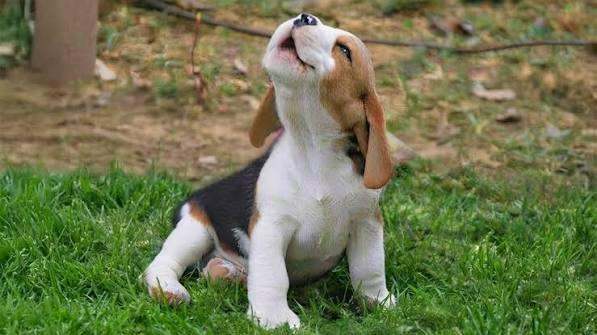puppy-dog: (138, 13, 400, 330)
